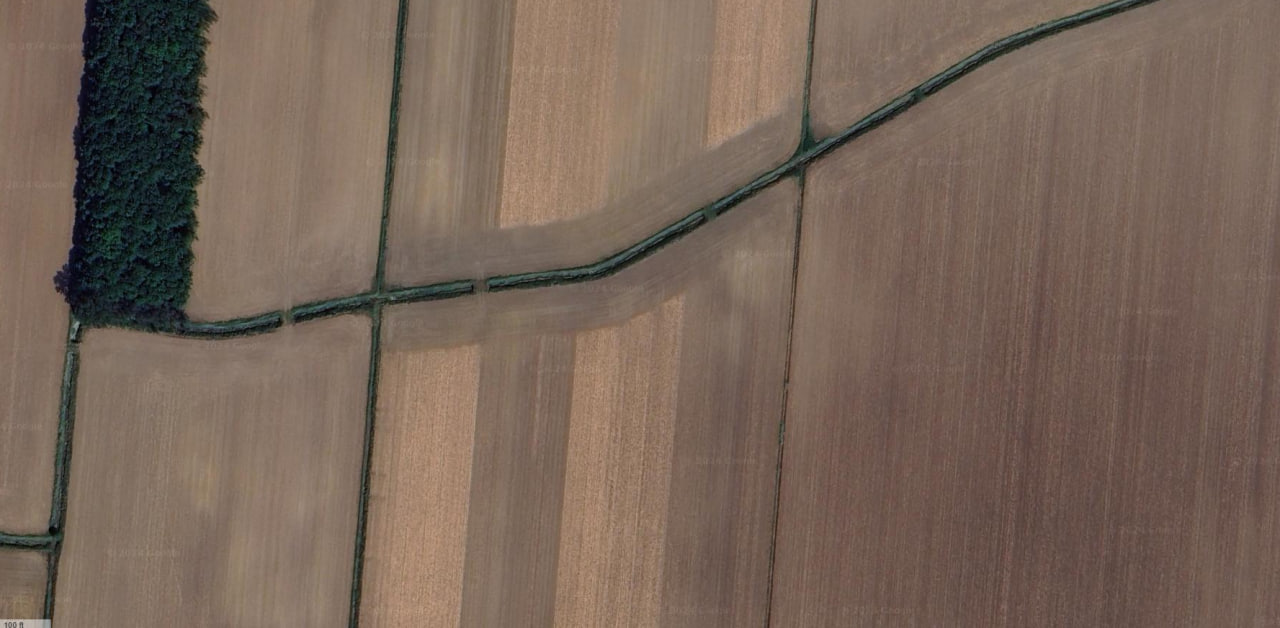field: (772, 3, 1280, 623), (382, 180, 798, 623), (388, 0, 809, 283), (55, 314, 370, 624), (186, 0, 398, 320), (554, 295, 683, 624), (810, 0, 1106, 140), (360, 344, 479, 625), (461, 331, 573, 624)
